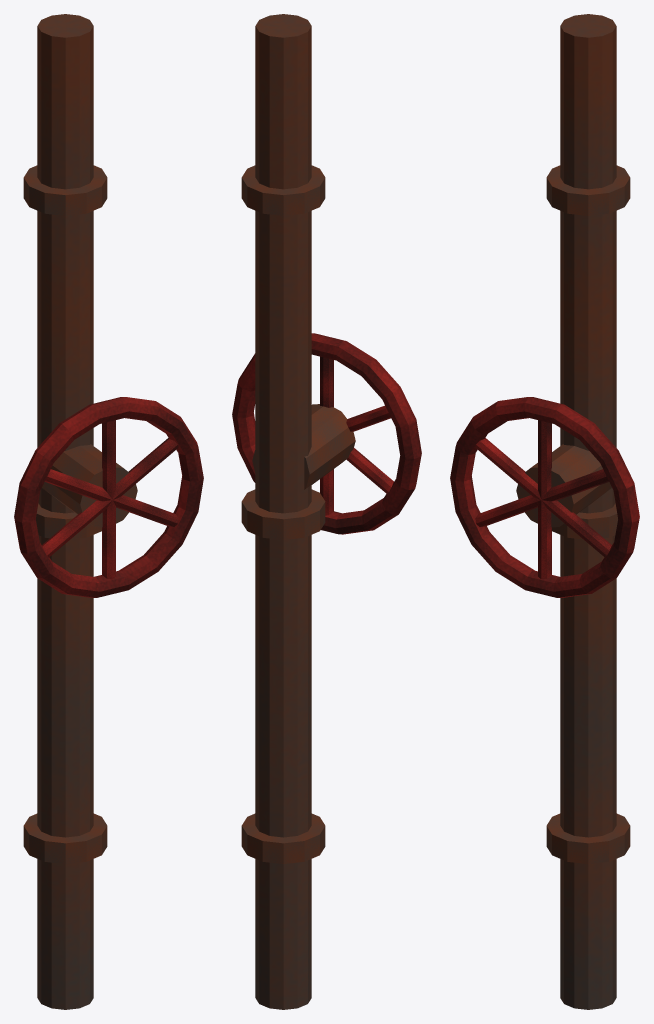
File: red_valve_pipe_junction_1k.gltf
3 views of the same model, side by side, from view 1: azimuth 30°, elevation 25°; view 2: azimuth 150°, elevation 25°; view 3: azimuth 330°, elevation 25° (orthographic).
Visible parts, largest first — view 1: red_valve_pipe_junction; view 2: red_valve_pipe_junction; view 3: red_valve_pipe_junction.
Boxes of the visible parts, box(x1,y1,x2,y2) form: red_valve_pipe_junction: box(14, 14, 203, 1009); red_valve_pipe_junction: box(232, 14, 421, 1009); red_valve_pipe_junction: box(450, 14, 639, 1009).
Bounding box in the file's own units: 0.424 × 2.1 × 0.274.
Materials: 2 (2 with a texture image).
